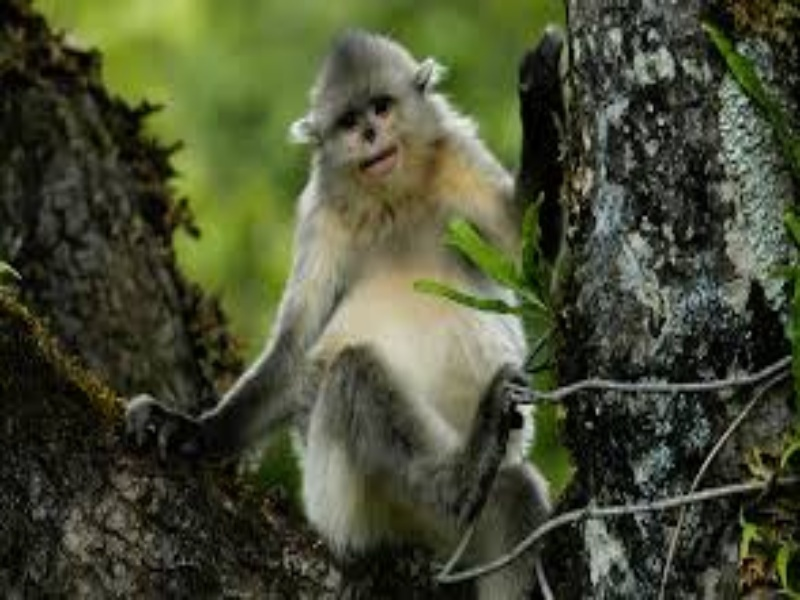monkey: (119, 30, 563, 600)
